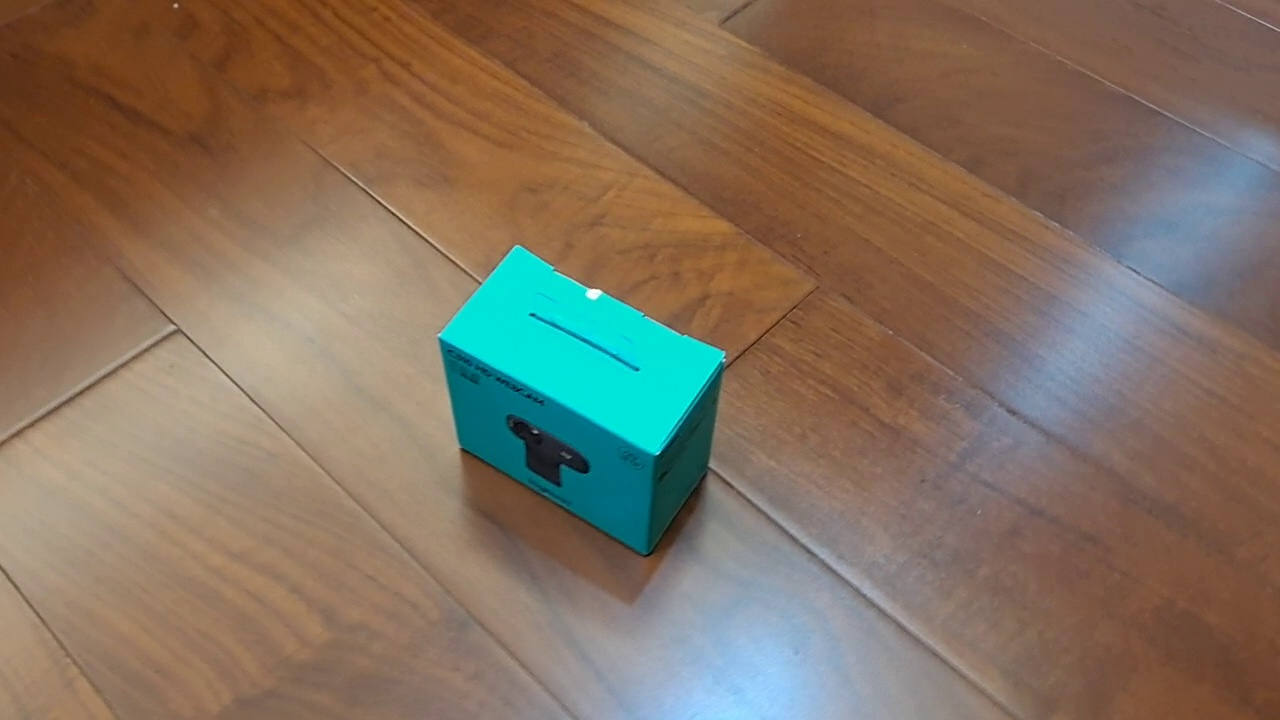webcam: (436, 243, 727, 558)
